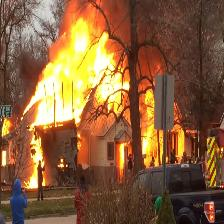fire: (49, 39, 109, 112)
